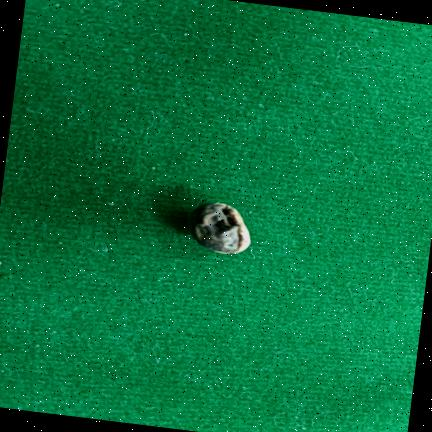partial-black: (188, 202, 250, 254)
